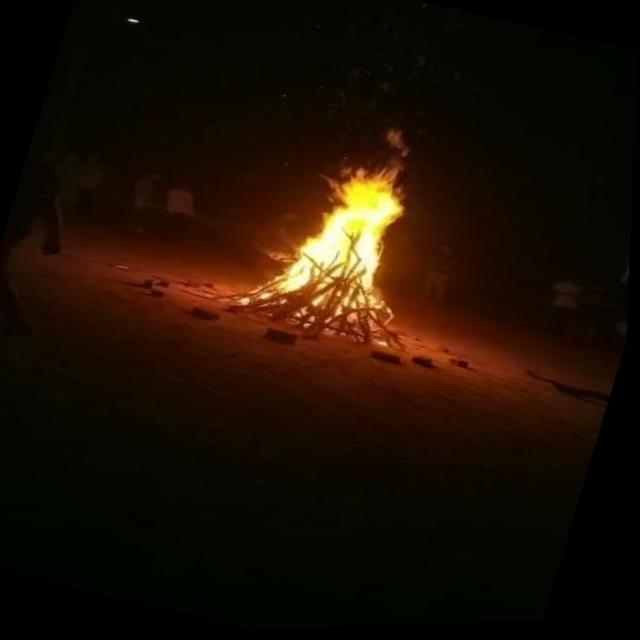fire: (233, 91, 457, 351)
